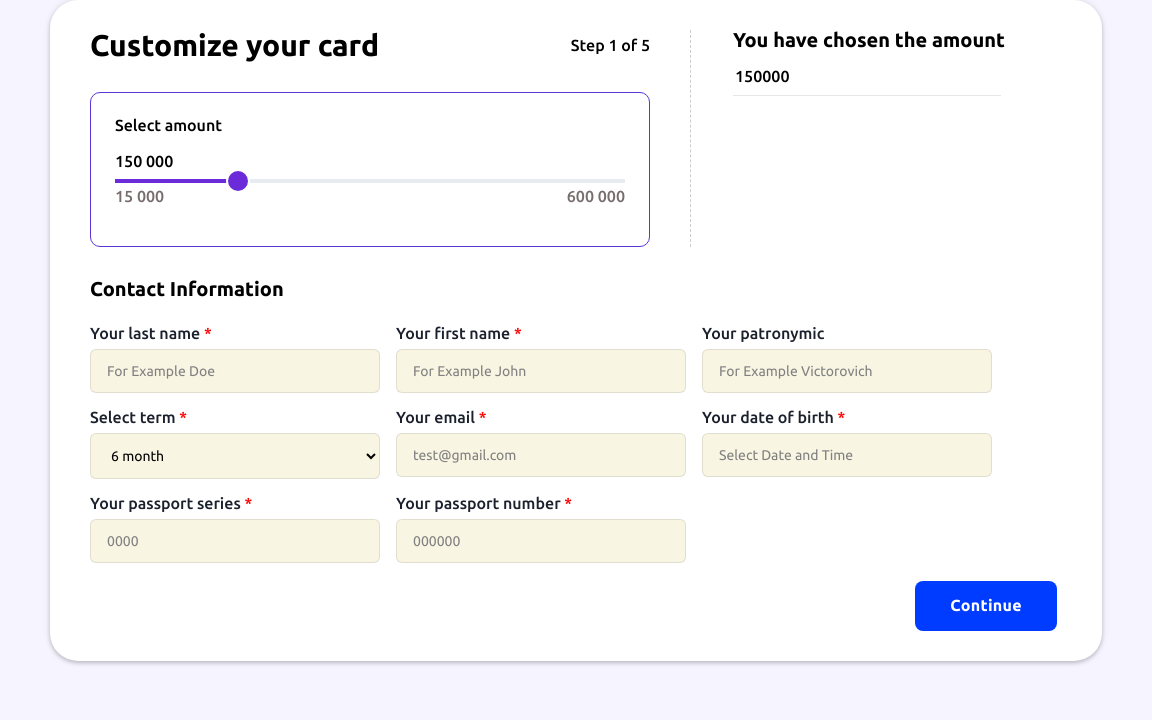
CustomizeCardForm — Prescoring › рендерит офферы после успешной отправки формы
The width and height of the screenshot is (1152, 720).
Type "ivanov" into the field labelled "Your last name *" at (235, 371), box [90,349,380,393]
Type "ivan" into the field labelled "Your first name *" at (541, 371), box [396,349,686,393]
Type "ivan@iv.ru" into the field labelled "Your email *" at (541, 455), box [396,433,686,477]
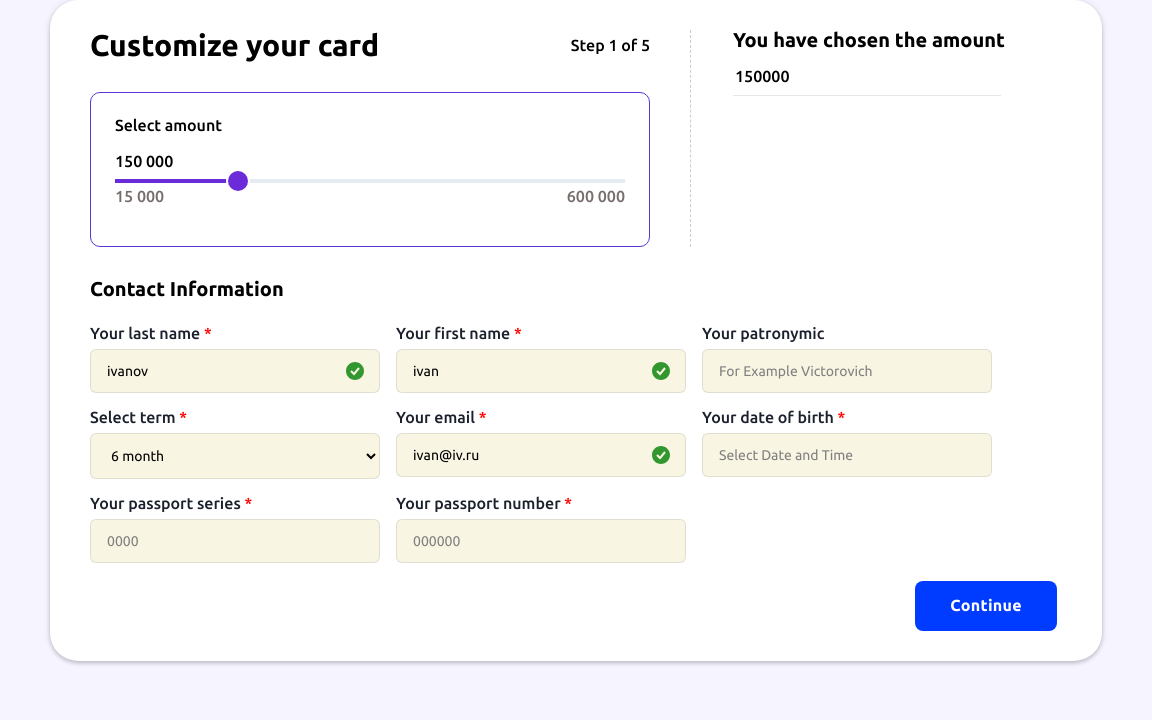
Type "1990-01-01" into the field labelled "Your date of birth *" at (847, 455), box [702,433,992,477]
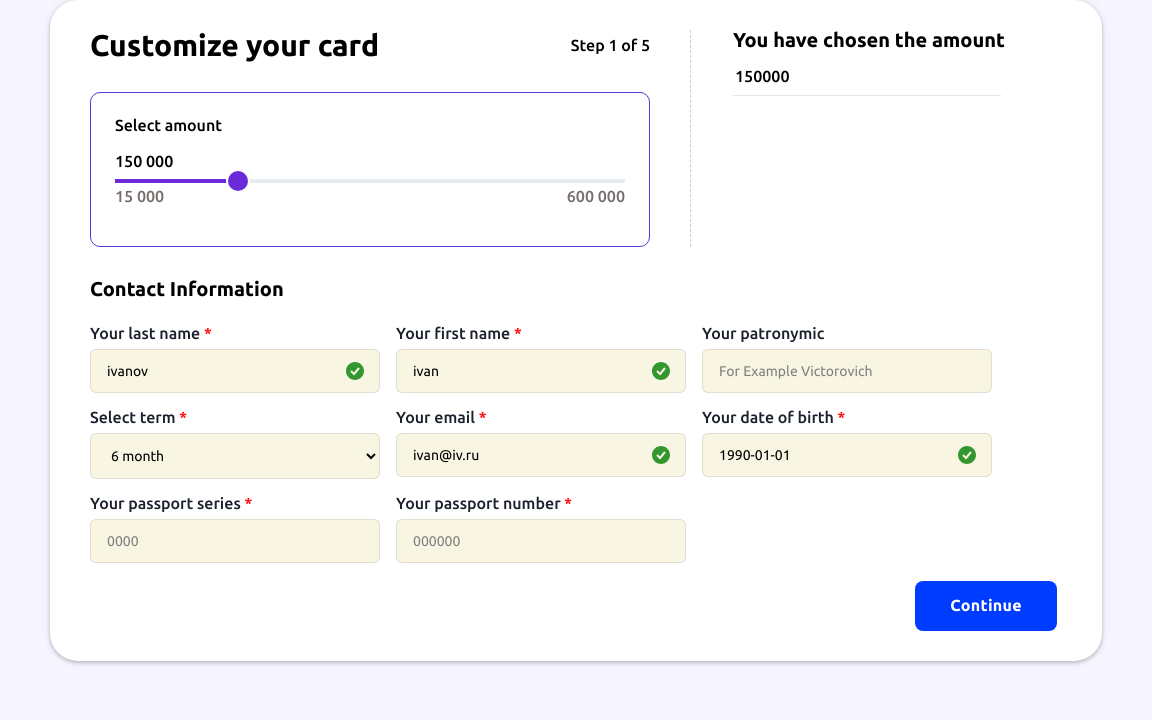
Type "1234" into the field labelled "Your passport series *" at (235, 541), box [90,519,380,563]
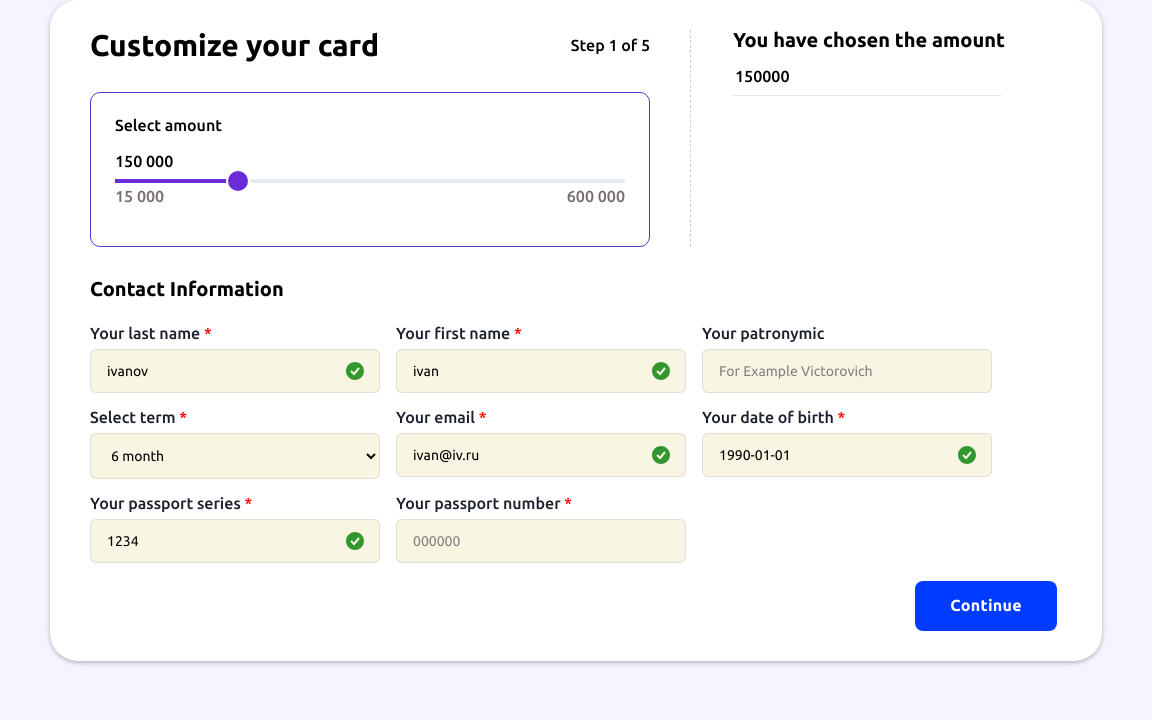
Select "18 month" in the dropdown labelled "Select term *" at (235, 456), box [90,433,380,479]
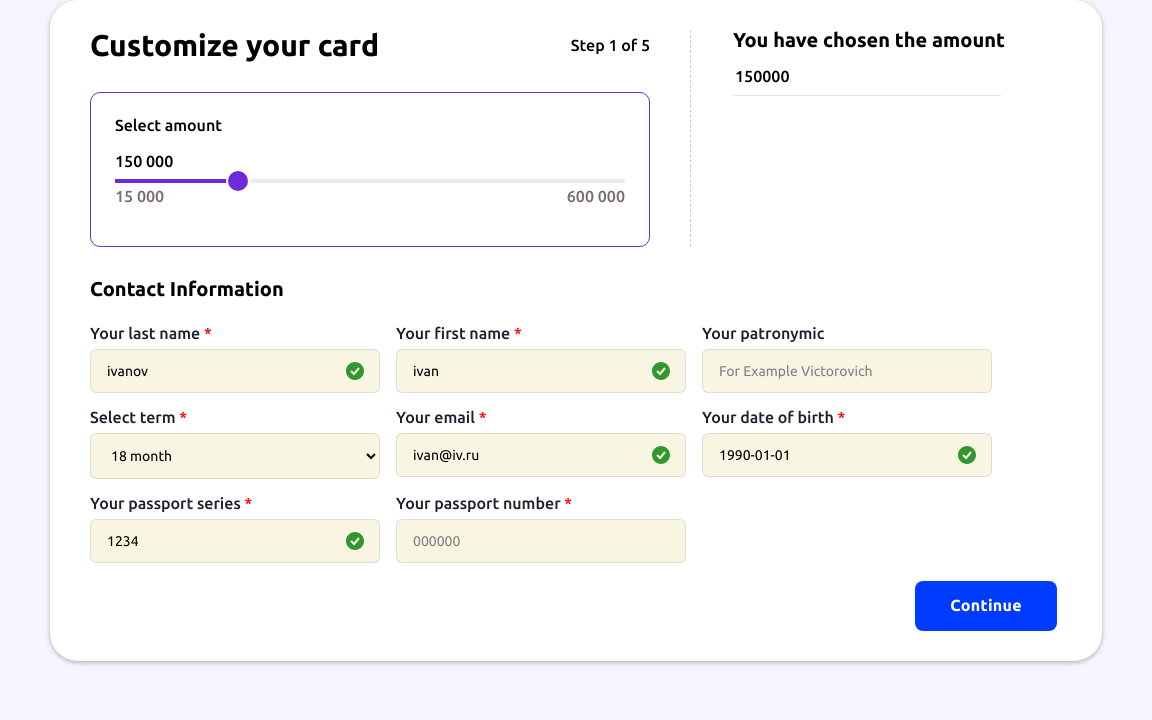
Type "123456" into the field labelled "Your passport number *" at (541, 541), box [396,519,686,563]
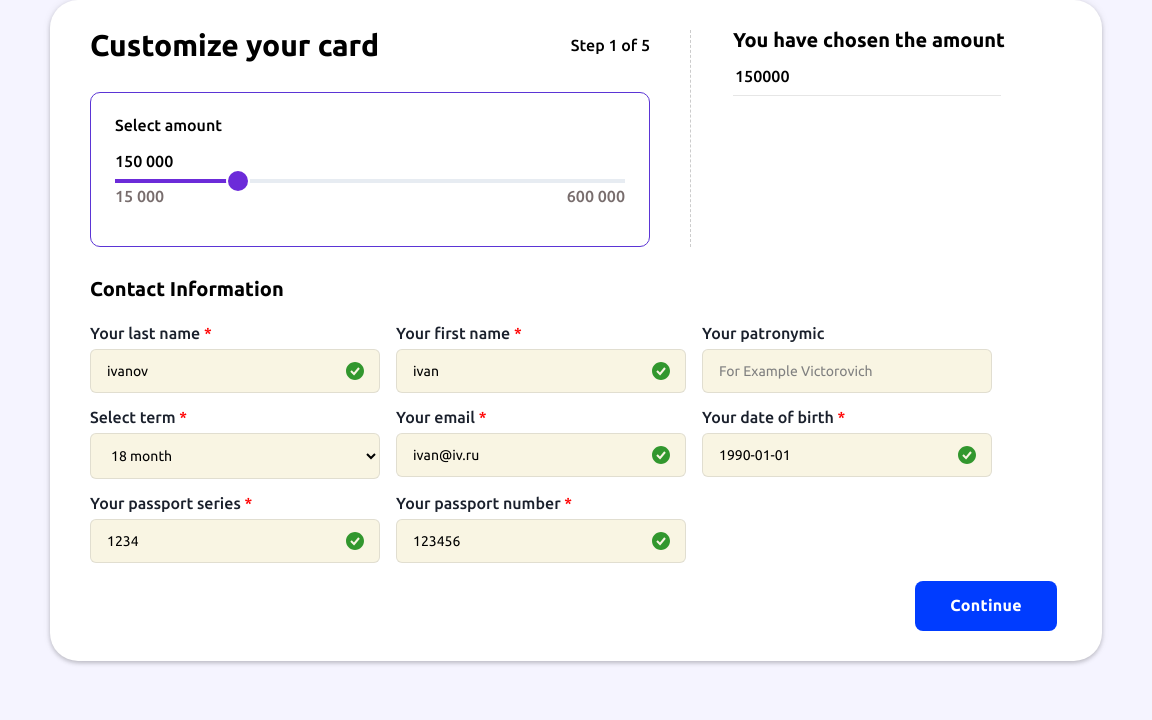
Click the button "Continue" at (986, 606), box [915,581,1057,631]
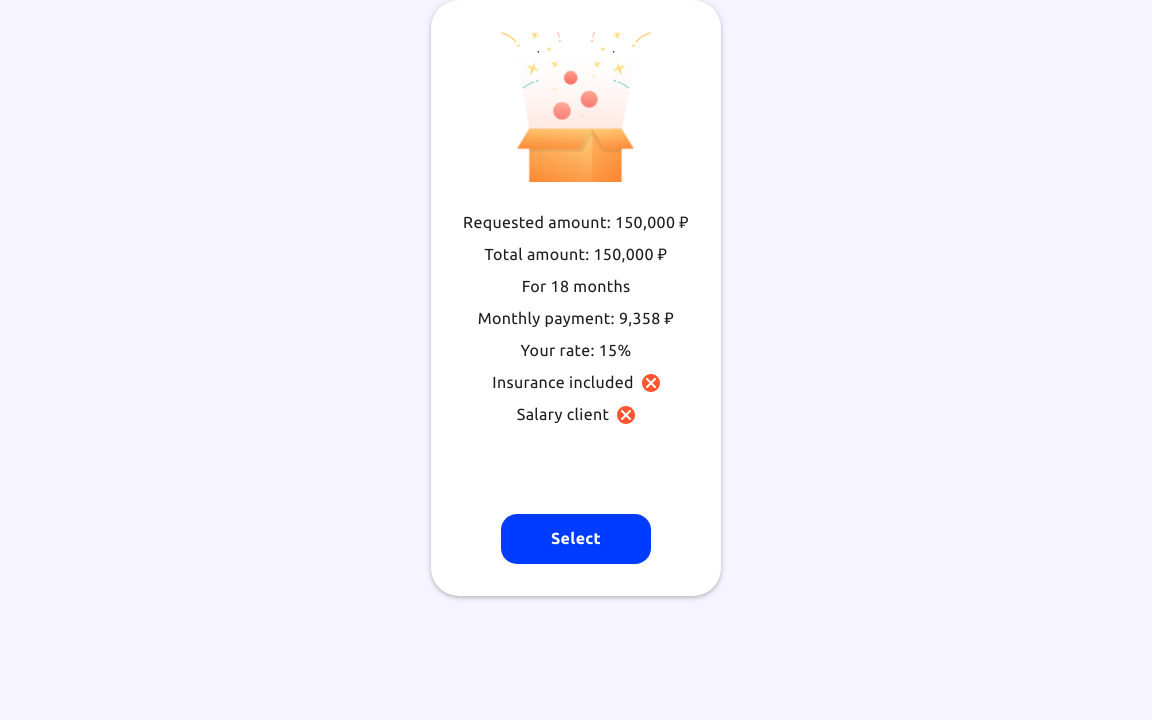
expect the element with test id "offers-container" is shown: met, box [431,0,721,596]
